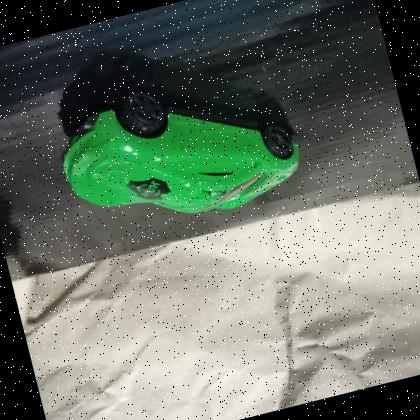Car: (40, 44, 318, 253)
